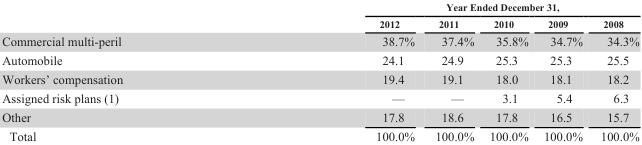table: (1, 1, 638, 142)
table column: (1, 1, 248, 142), (248, 1, 424, 142), (424, 1, 481, 142), (535, 1, 590, 142), (481, 1, 535, 142), (590, 1, 638, 142)
table column header: (1, 1, 638, 31)
table row: (1, 31, 638, 50), (1, 50, 638, 69), (1, 69, 638, 88), (1, 88, 638, 107), (1, 107, 638, 125), (1, 14, 638, 31), (1, 125, 638, 142), (1, 1, 638, 14)
table spanning cell: (248, 1, 638, 14)
